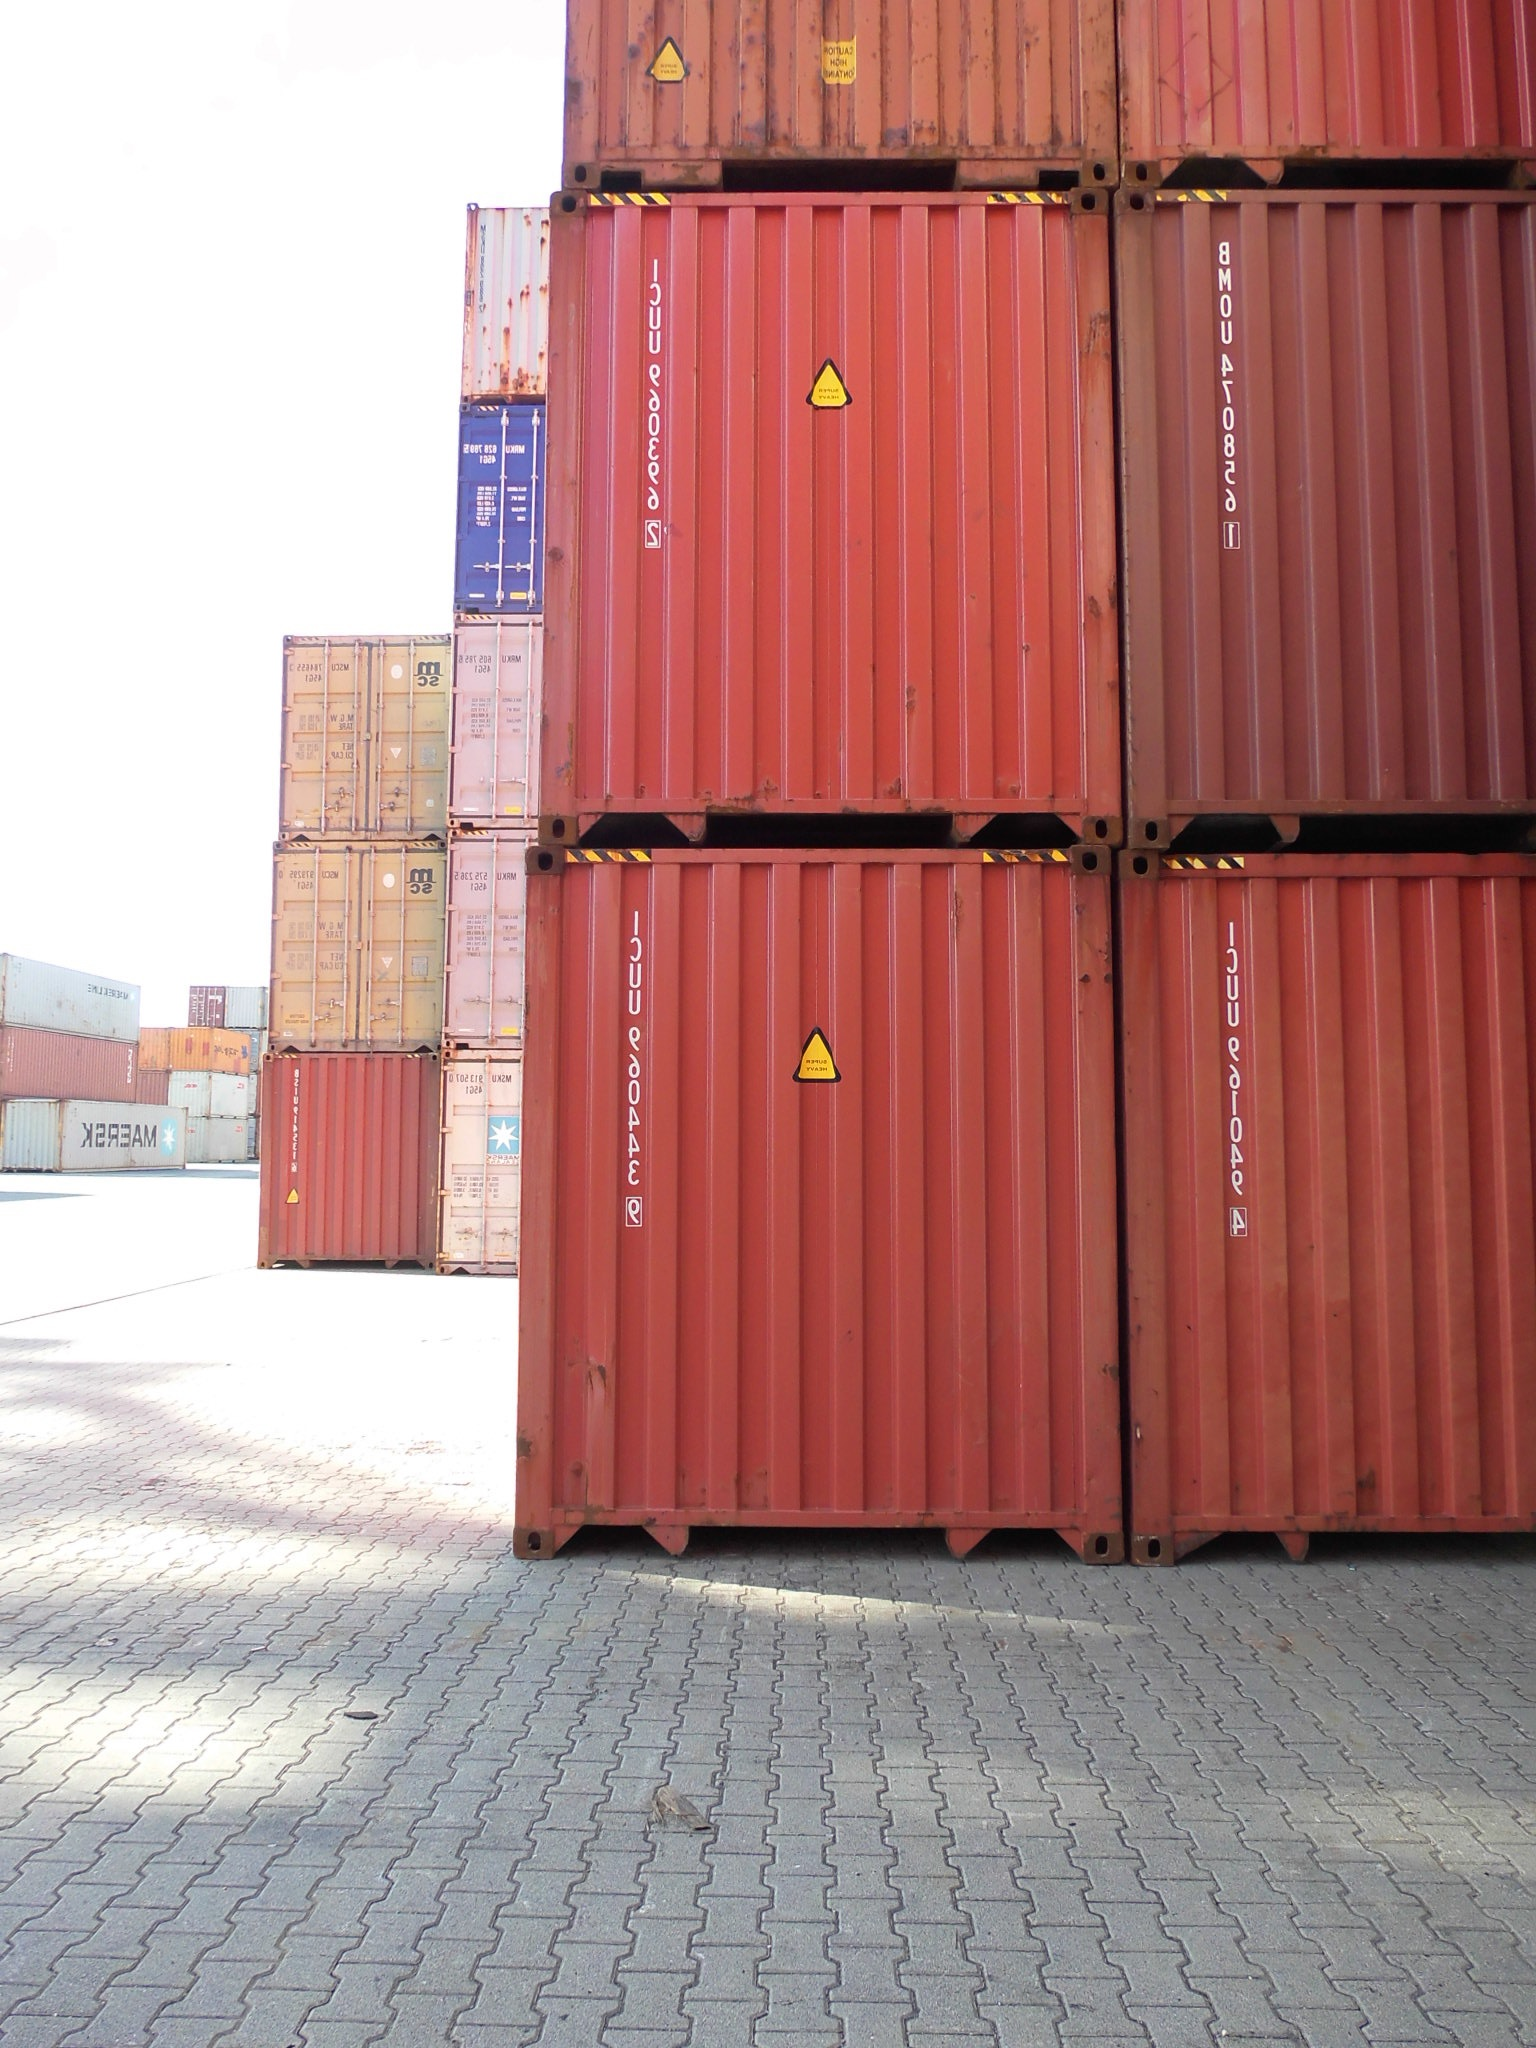container_door: (271, 843, 442, 1050), (281, 634, 452, 839), (452, 402, 542, 634), (453, 624, 544, 834), (444, 839, 532, 1047), (445, 1051, 534, 1259)
container_no_door: (531, 839, 1120, 1563), (539, 197, 1115, 839), (1123, 851, 1536, 1567), (1120, 187, 1536, 847), (253, 1055, 444, 1271), (457, 206, 547, 398)
